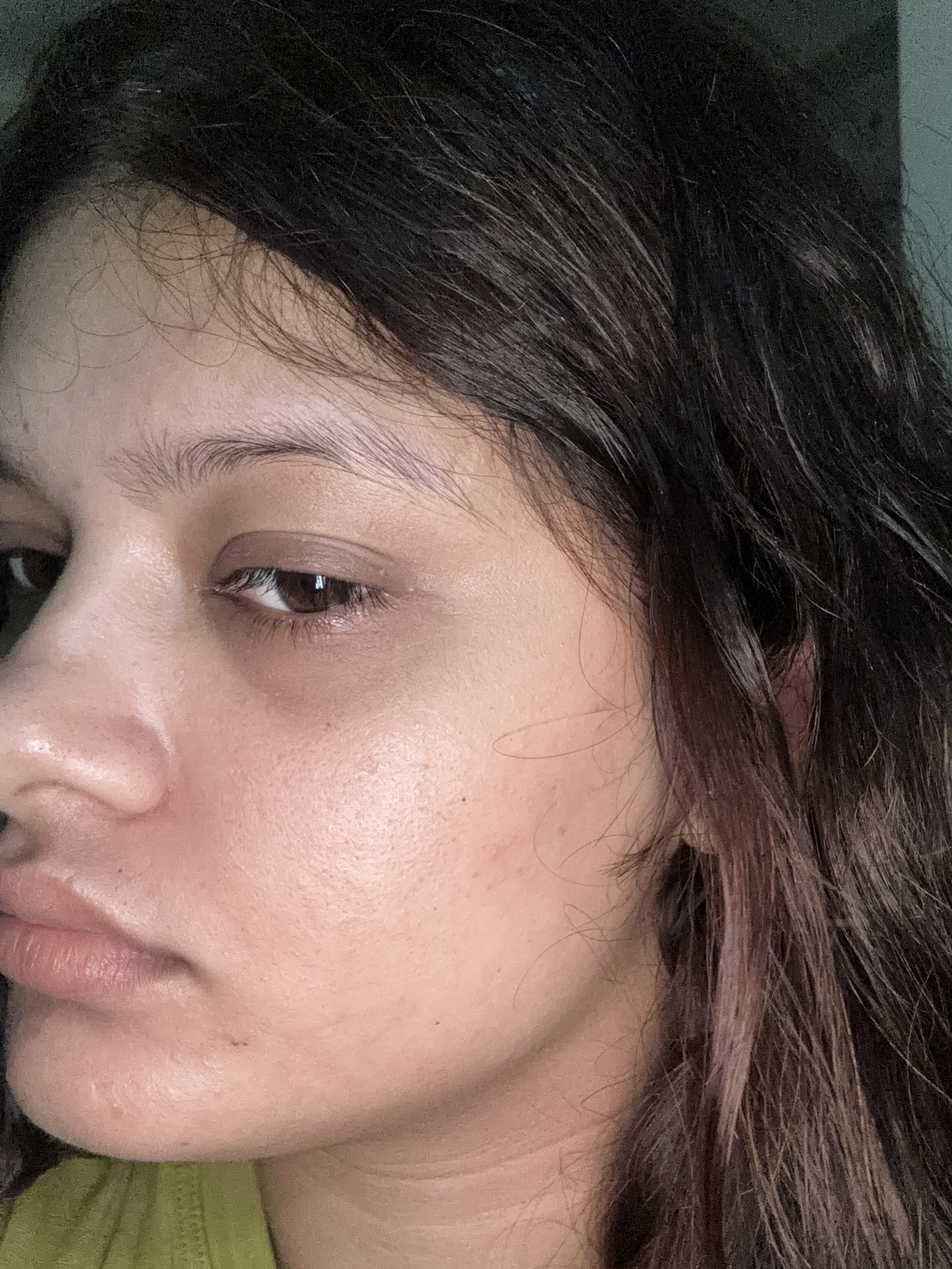open_comedone: (76, 699, 161, 774)
